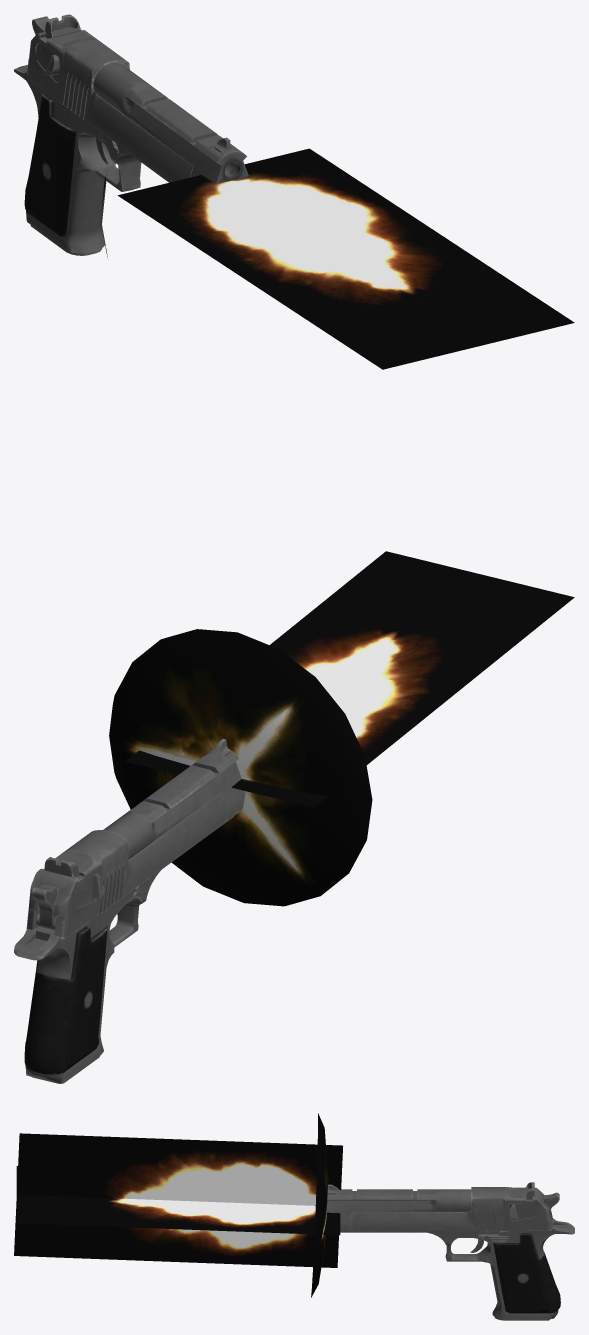
Rendered from Deagle_0.glb.
3 renders of one model, top to bottom at view 1: azimuth 30°, elevation 25°; view 2: azimuth 150°, elevation 25°; view 3: azimuth 270°, elevation 25°, orthographic. The views are drawn at different scales.
Parts seen in each view (by area): view 1: MuzzleFlash, Deagle_upd, Deagle_upd_slider (×2); view 2: MuzzleFlash, Deagle_upd, Deagle_upd_slider (×3); view 3: MuzzleFlash, Deagle_upd, Deagle_upd_slider (×3).
Boxes of the visible parts, <box> form: MuzzleFlash: <box>101,148,574,369</box>; Deagle_upd: <box>14,16,248,253</box>; Deagle_upd_slider (×2): <box>27,14,193,182</box>; MuzzleFlash: <box>109,551,574,906</box>; Deagle_upd: <box>14,739,245,1083</box>; Deagle_upd_slider (×3): <box>27,792,225,939</box>; MuzzleFlash: <box>14,1113,342,1297</box>; Deagle_upd: <box>326,1184,574,1319</box>; Deagle_upd_slider (×3): <box>351,1182,551,1231</box>.
Size of the model in its own units: 0.1744 by 0.1977 by 0.5188.
2 materials, 2 textured.
